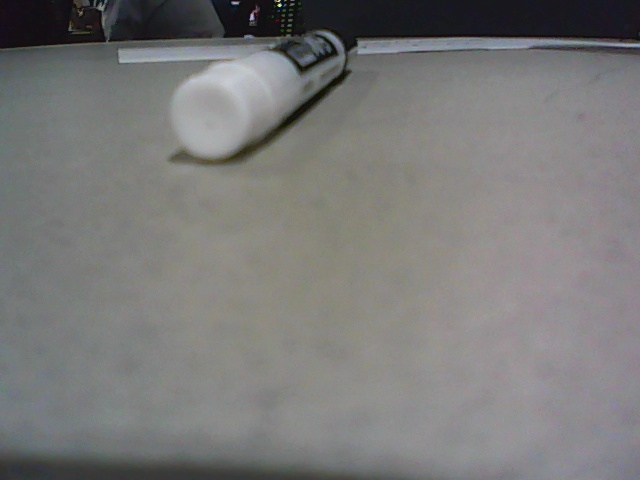marker: (171, 27, 356, 160)
